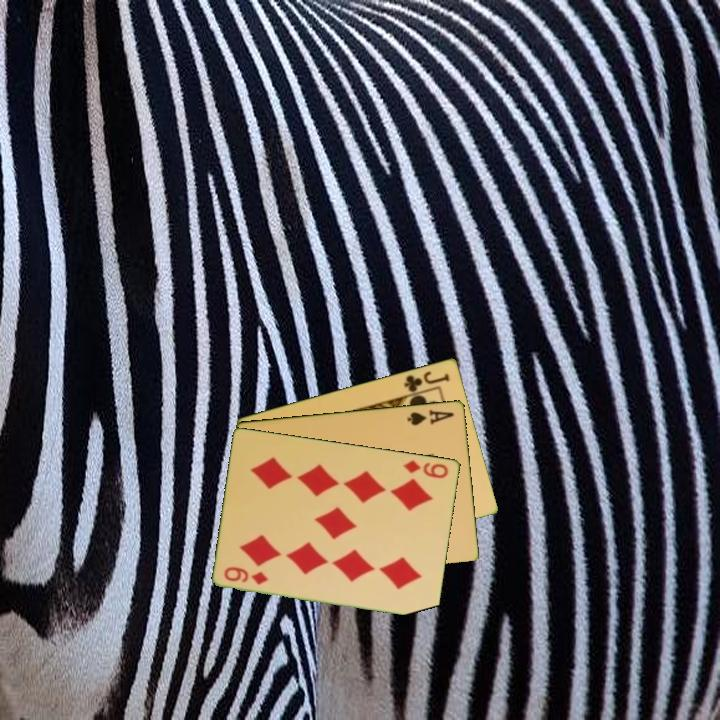9d: (400, 456, 451, 481), (221, 563, 272, 587)
As: (404, 406, 457, 428)
Jc: (401, 367, 453, 395)
